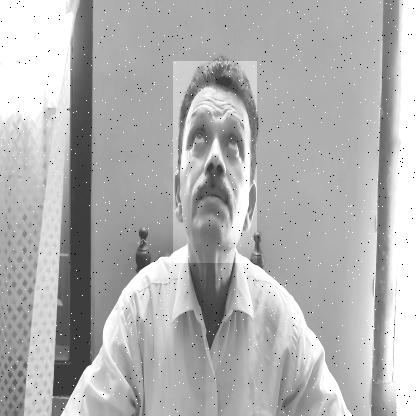Distracted: (173, 61, 257, 263)
